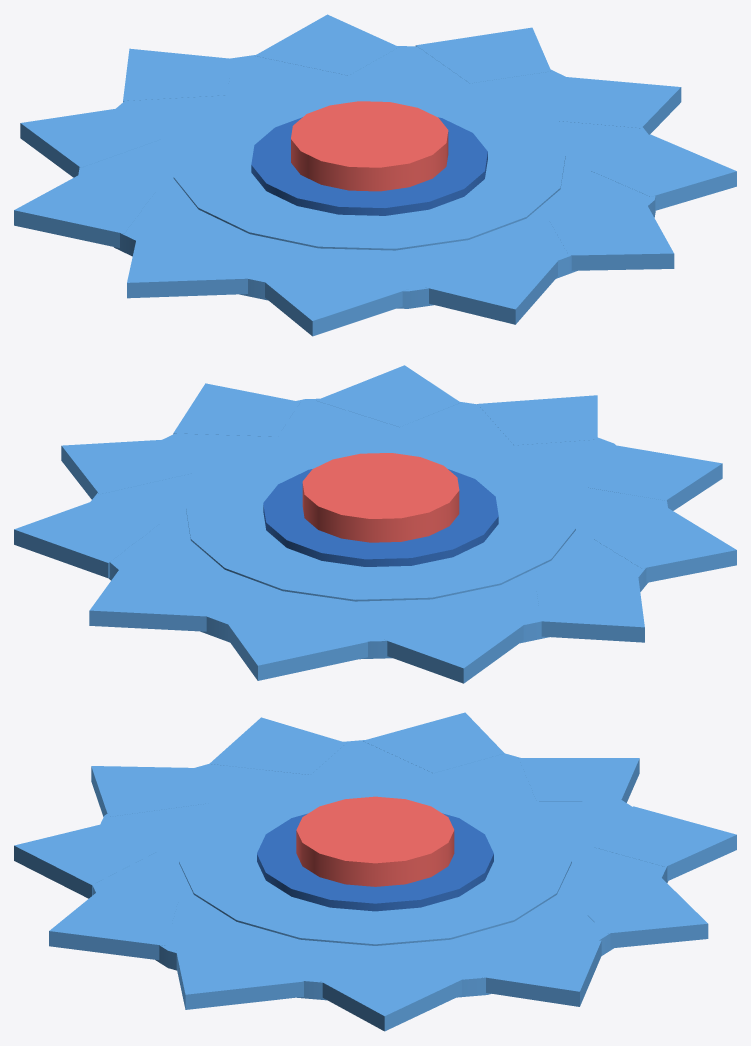
File: obstacle.fbx
3 renders of one model, top to bottom at view 1: azimuth 30°, elevation 25°; view 2: azimuth 150°, elevation 25°; view 3: azimuth 270°, elevation 25°, orthographic.
Parts seen in each view (by area): view 1: Cylinder.002; view 2: Cylinder.002; view 3: Cylinder.002.
Part boxes in pixels (left/top/right/bottom): Cylinder.002: left=14, top=14, right=736, bottom=336; Cylinder.002: left=14, top=365, right=736, bottom=683; Cylinder.002: left=14, top=712, right=736, bottom=1031.
Size of the model in its own units: 134 by 12.36 by 135.
